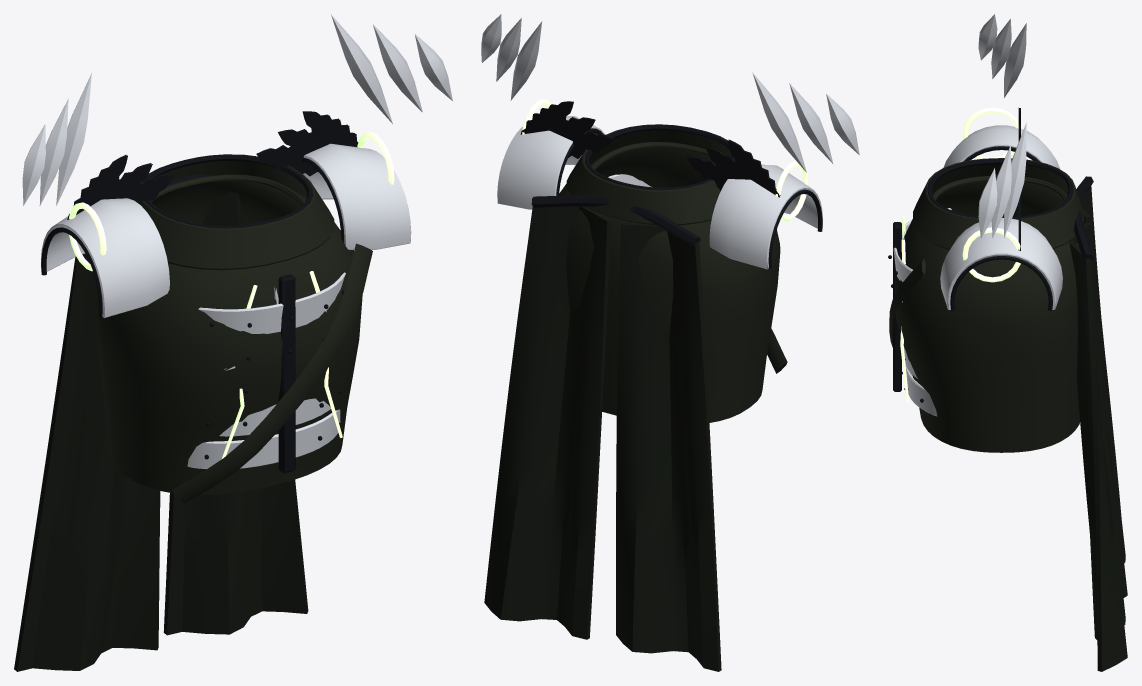
Rendered from esc_endtime_stalker_armor.glb.
3 renders of one model, left to right at view 1: azimuth 30°, elevation 25°; view 2: azimuth 150°, elevation 25°; view 3: azimuth 270°, elevation 25°, orthographic. The views are drawn at different scales.
Parts seen in each view (by area): view 1: esc_endtime_stalker_armor, AT_upper_arm_R, AT_upper_arm_L; view 2: esc_endtime_stalker_armor, AT_upper_arm_R, AT_upper_arm_L; view 3: esc_endtime_stalker_armor, AT_upper_arm_L, AT_upper_arm_R.
Boxes of the visible parts, left/top/right/bottom form: esc_endtime_stalker_armor: left=14, top=14, right=452, bottom=671; AT_upper_arm_R: left=41, top=154, right=174, bottom=317; AT_upper_arm_L: left=256, top=111, right=411, bottom=249; esc_endtime_stalker_armor: left=481, top=14, right=859, bottom=671; AT_upper_arm_R: left=687, top=139, right=822, bottom=269; AT_upper_arm_L: left=497, top=101, right=614, bottom=209; esc_endtime_stalker_armor: left=888, top=14, right=1127, bottom=671; AT_upper_arm_L: left=940, top=194, right=1062, bottom=310; AT_upper_arm_R: left=943, top=107, right=1059, bottom=168.
Bounding box in the file's own units: 0.9251 × 1.31 × 0.5243.
